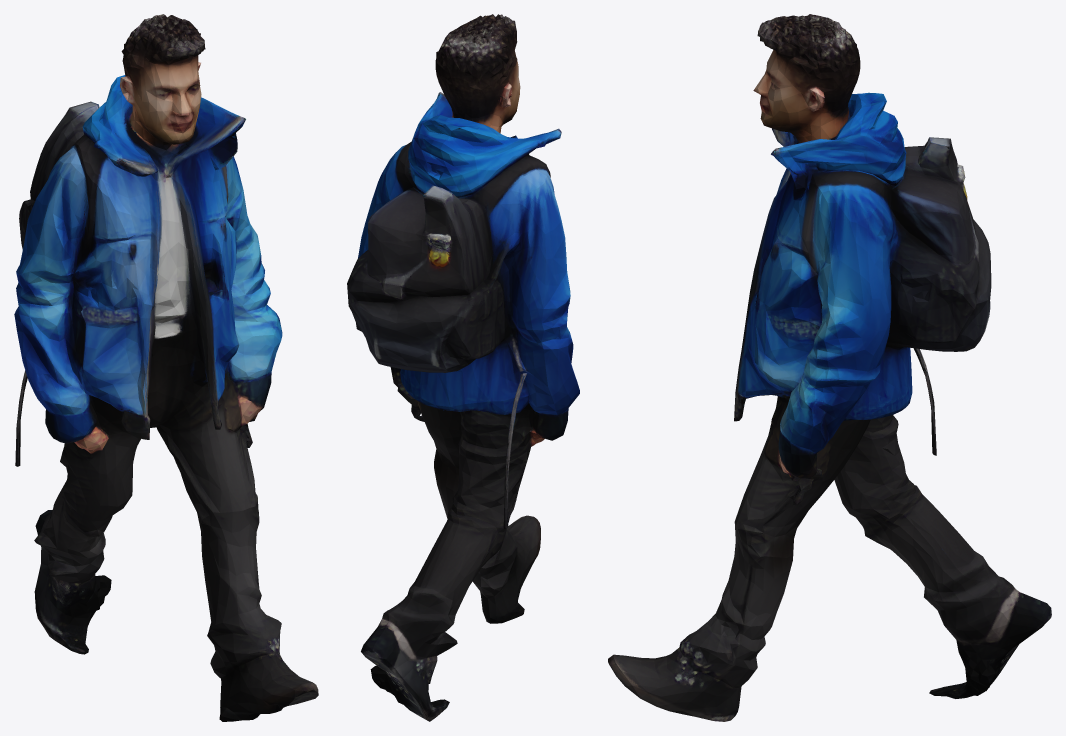
The model's file is pedestrian_42_20251230_114032_20251230_115751.glb.
3 views of the same model, side by side, from view 1: azimuth 30°, elevation 25°; view 2: azimuth 150°, elevation 25°; view 3: azimuth 270°, elevation 25° (orthographic). The views are drawn at different scales.
Visible parts, largest first — view 1: world; view 2: world; view 3: world.
Boxes of the visible parts, x1,y1,x2,y2 form: world: (14,14,318,721); world: (347,14,579,721); world: (608,14,1051,721).
Size of the model in its own units: 0.3739 by 1 by 0.5884.
1 material, 1 textured.
